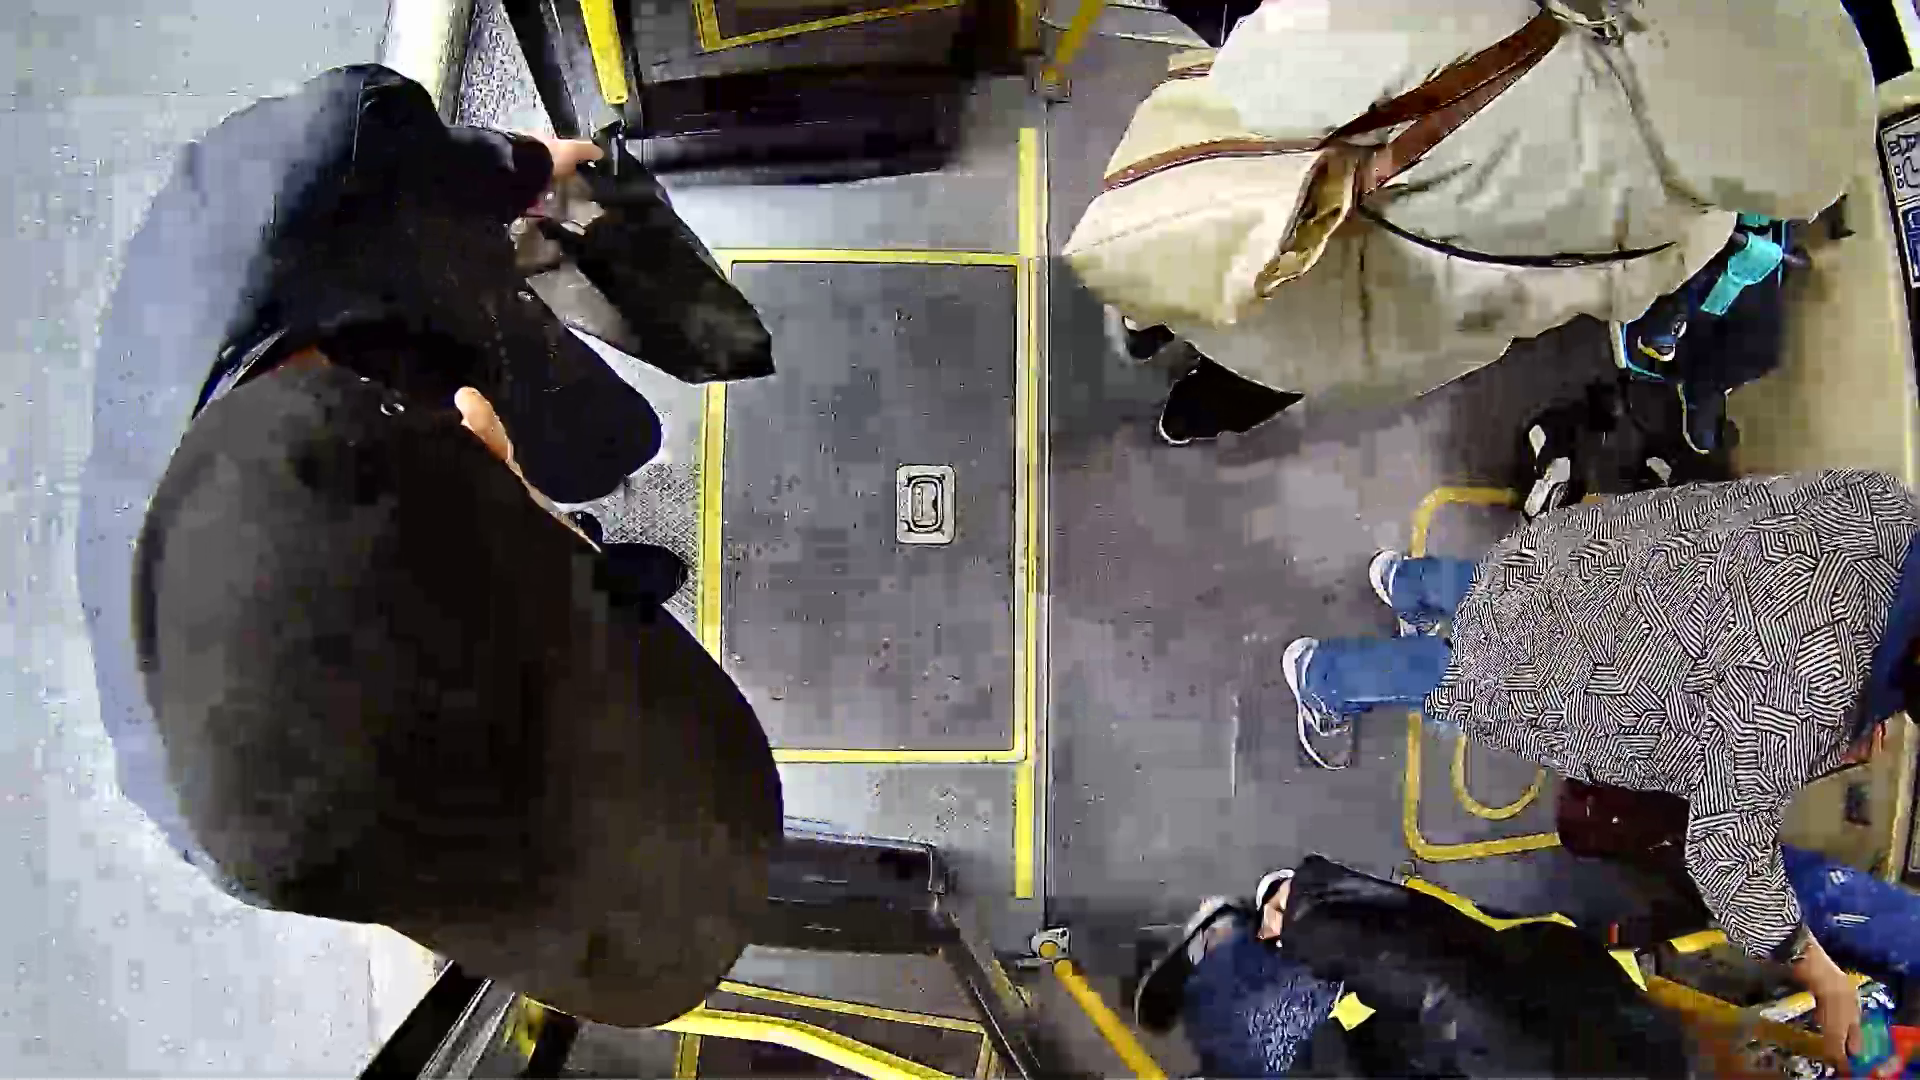person: (119, 86, 995, 1019)
